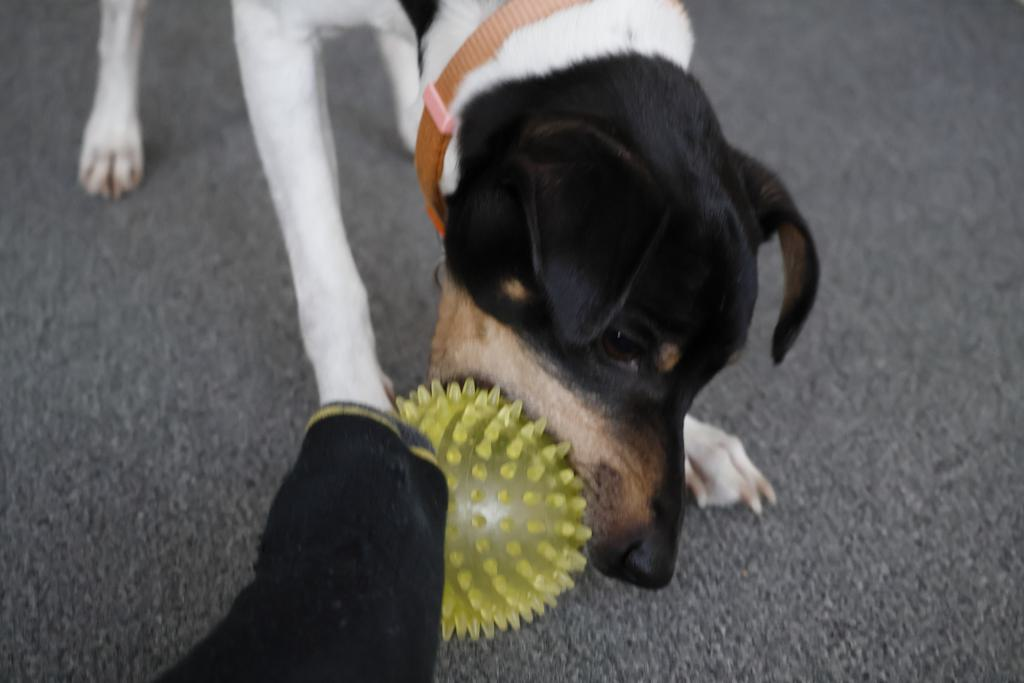Dog: (71, 0, 834, 595)
Humanoid: (118, 393, 461, 683)
